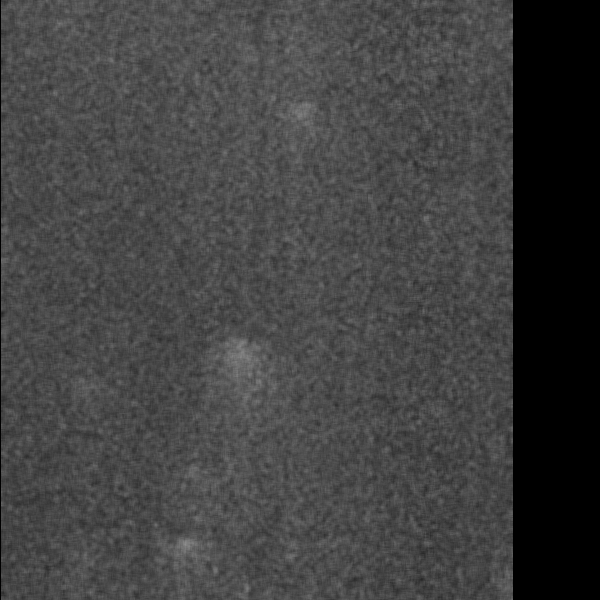spark: (394, 268, 444, 313), (361, 570, 433, 596), (128, 233, 174, 260)
